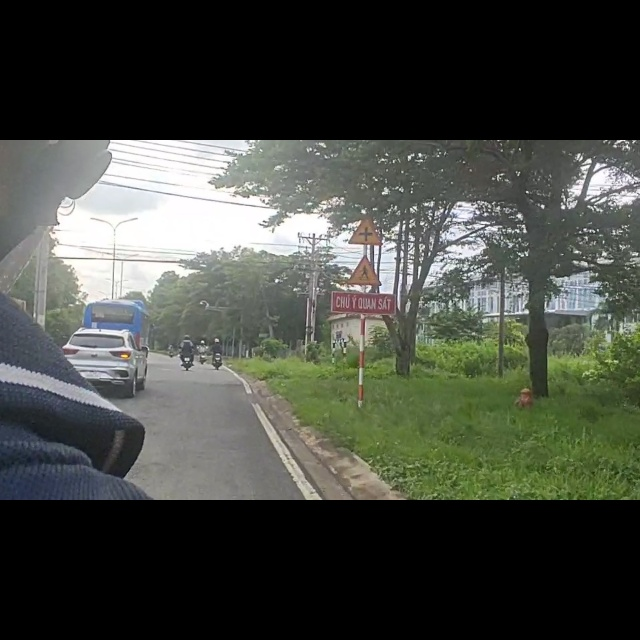bien_nguy_hiem: (344, 203, 385, 263), (347, 136, 387, 192)
